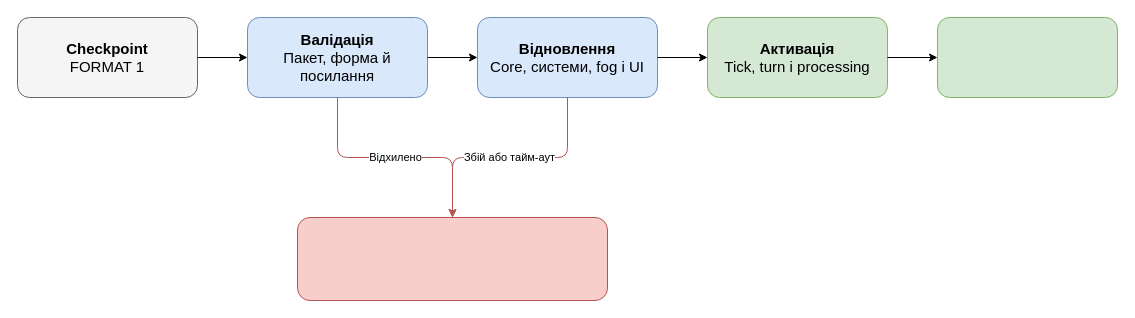
Image size: 1135x318. Some labels were removed from this diagram. The centre of each missing label's shape, as x and y in pixels:
Recovery Закрити сесію, очистити черги й перебудувати меню: [452,258]
Сесія готова Callback після commit: [1027,57]
